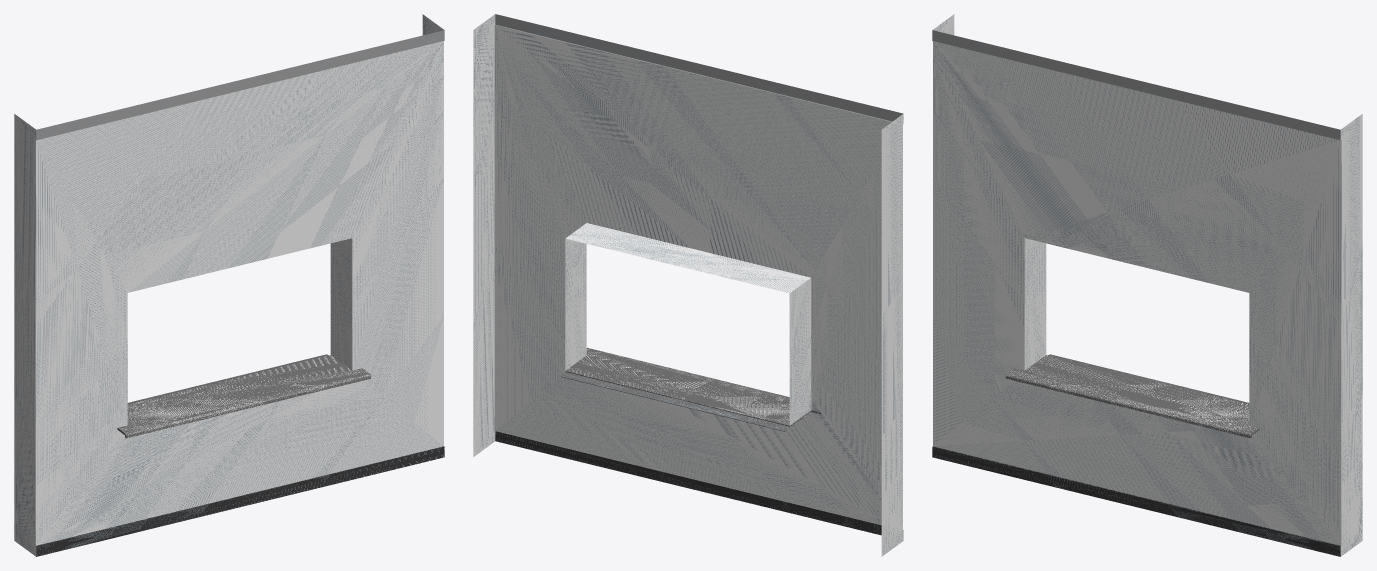
Rendered from WindowBlock_os_plinth_[400x400]_220x124x[100].dae.
3 renders of one model, left to right at view 1: azimuth 30°, elevation 25°; view 2: azimuth 150°, elevation 25°; view 3: azimuth 330°, elevation 25°, orthographic.
Visible parts, largest first — view 1: group_1 (×4), group_2; view 2: group_1 (×4), group_2 (×2); view 3: group_1 (×4), group_2.
Part boxes in pixels (x1,y1,x2,y2): group_1 (×4): [14, 14, 444, 556]; group_2: [117, 355, 371, 438]; group_1 (×4): [473, 14, 903, 556]; group_2 (×2): [561, 347, 821, 431]; group_1 (×4): [932, 14, 1362, 556]; group_2: [1005, 355, 1258, 438].
Size of the model in its own units: 157 by 23.03 by 157.
